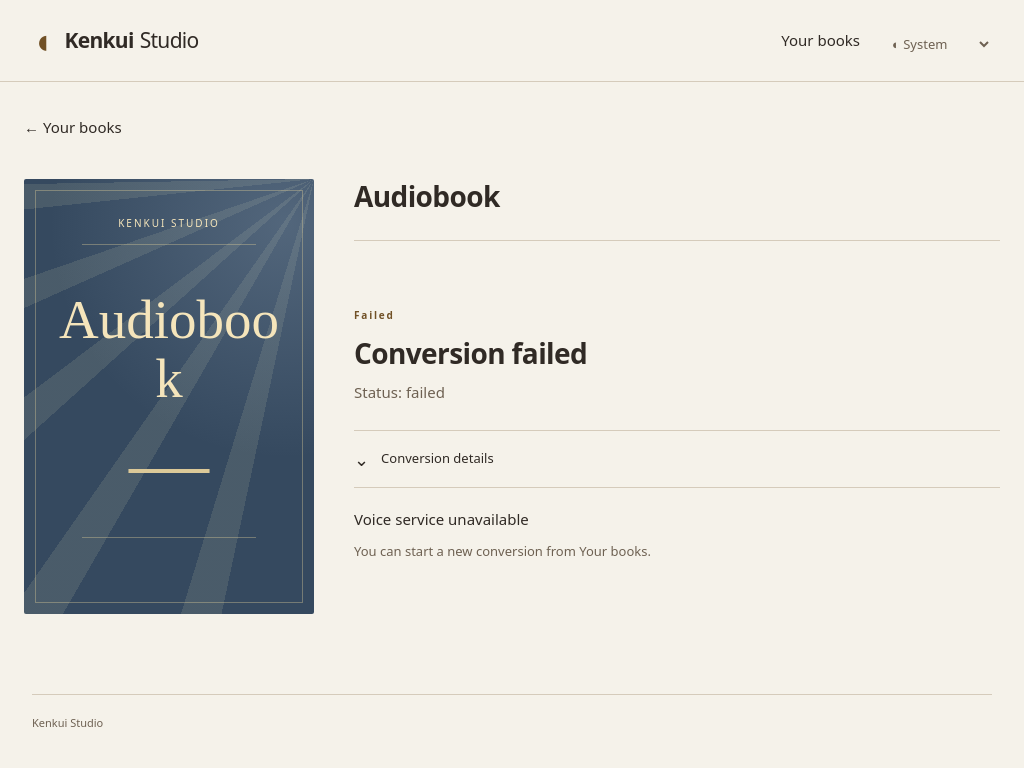
Test: existing Studio feature parity › keeps job IDs and the last stage available after a failed conversion
Expected: the text "Voice service unavailable" is shown, [354, 508, 529, 528]
What coordinates should you click on to do the following:
click the heading "Conversion details"
I would click on:
 (437, 458)
Its box is [381, 449, 494, 467].
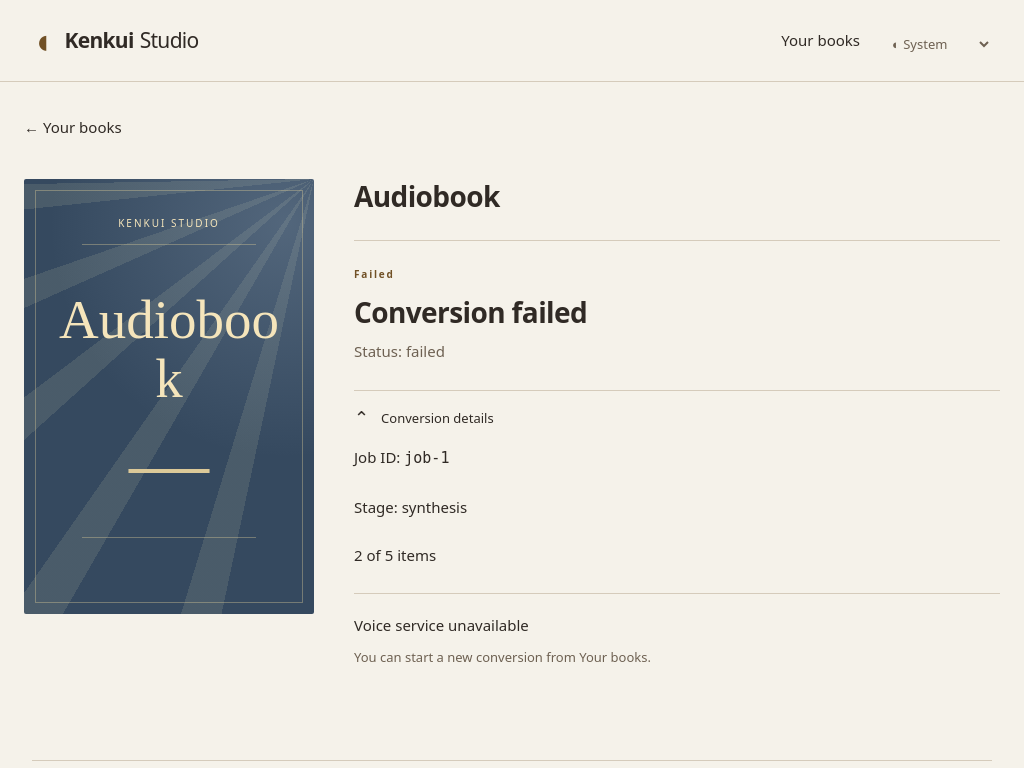
Result: the text "job-1" is shown at [404, 449, 450, 467]
Result: the text "Stage: synthesis" is shown at [354, 496, 467, 516]
Result: the text "2 of 5 items" is shown at [354, 545, 436, 565]
